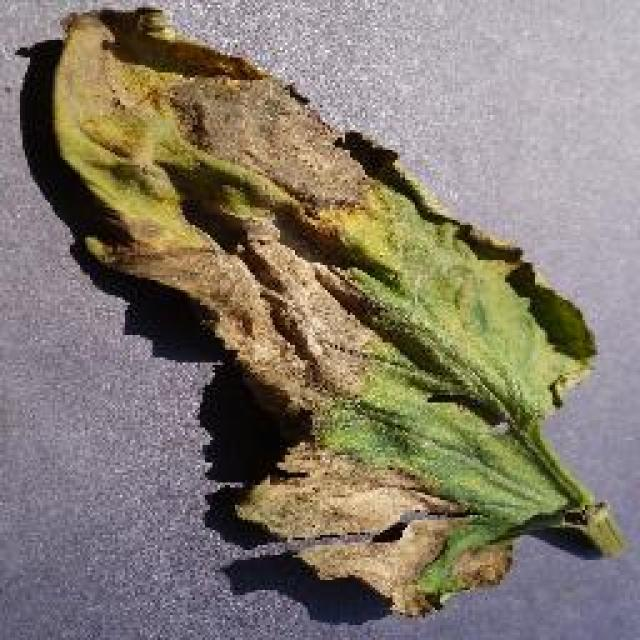Tomato___Late_blight: (35, 8, 628, 618)
